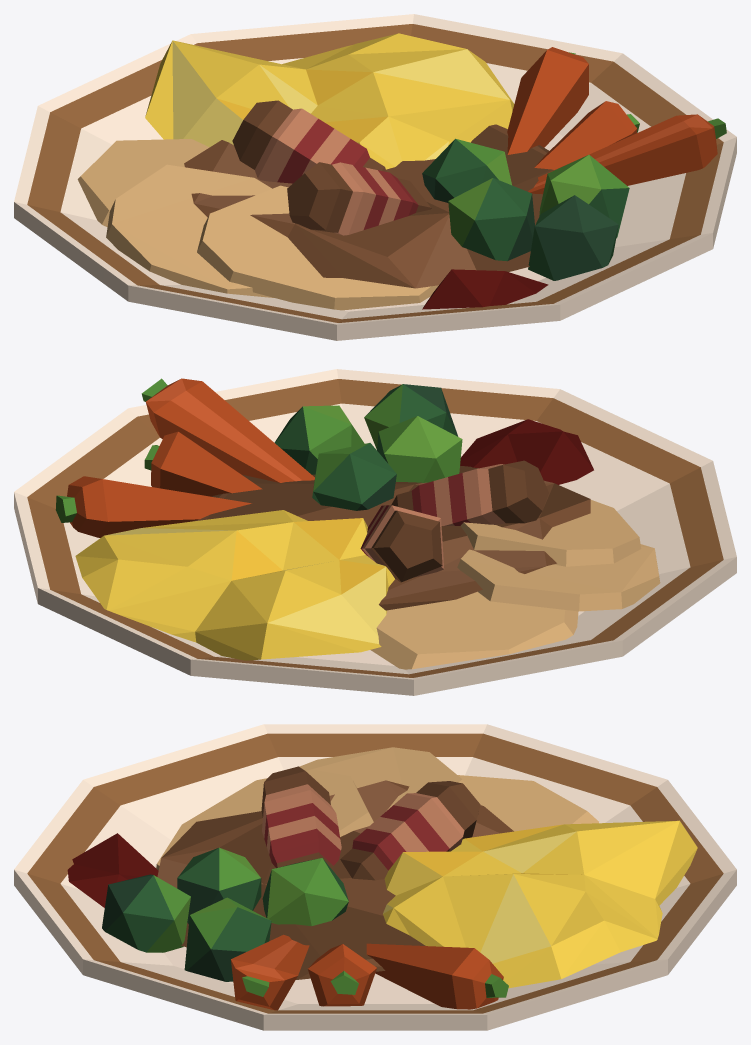
File: plate-dinner-english.glb
3 views of the same model, one above another, from view 1: azimuth 30°, elevation 25°; view 2: azimuth 150°, elevation 25°; view 3: azimuth 270°, elevation 25° (orthographic). The views are drawn at different scales.
Visible parts, largest first — view 1: plate_dinner_english; view 2: plate_dinner_english; view 3: plate_dinner_english.
Boxes of the visible parts, box(x1,y1,x2,y2) form: plate_dinner_english: box(14, 14, 736, 340); plate_dinner_english: box(14, 369, 736, 695); plate_dinner_english: box(14, 724, 736, 1030).
Bounding box in the file's own units: 0.2995 × 0.0504 × 0.315.
Materials: 1 (1 with a texture image).
